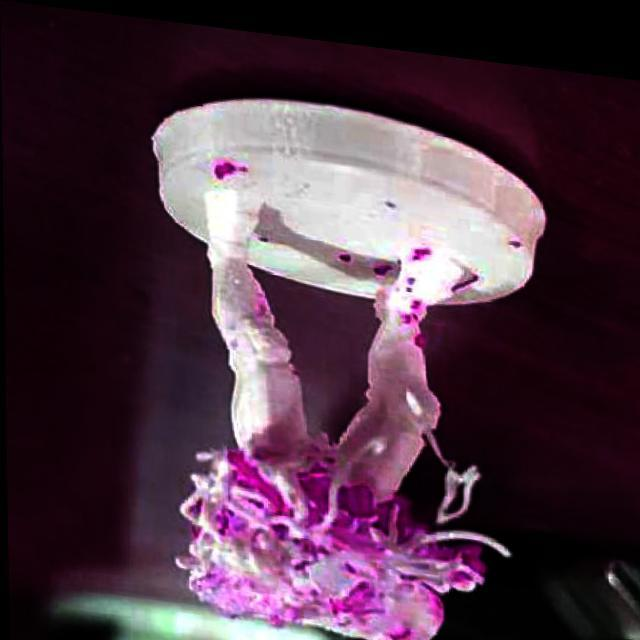spaghetti: (171, 421, 512, 640)
